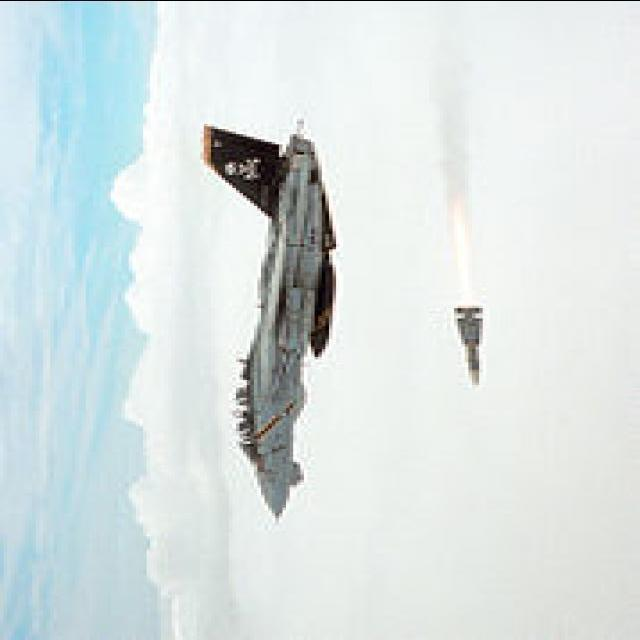missile: (202, 122, 342, 521), (449, 304, 490, 389)
